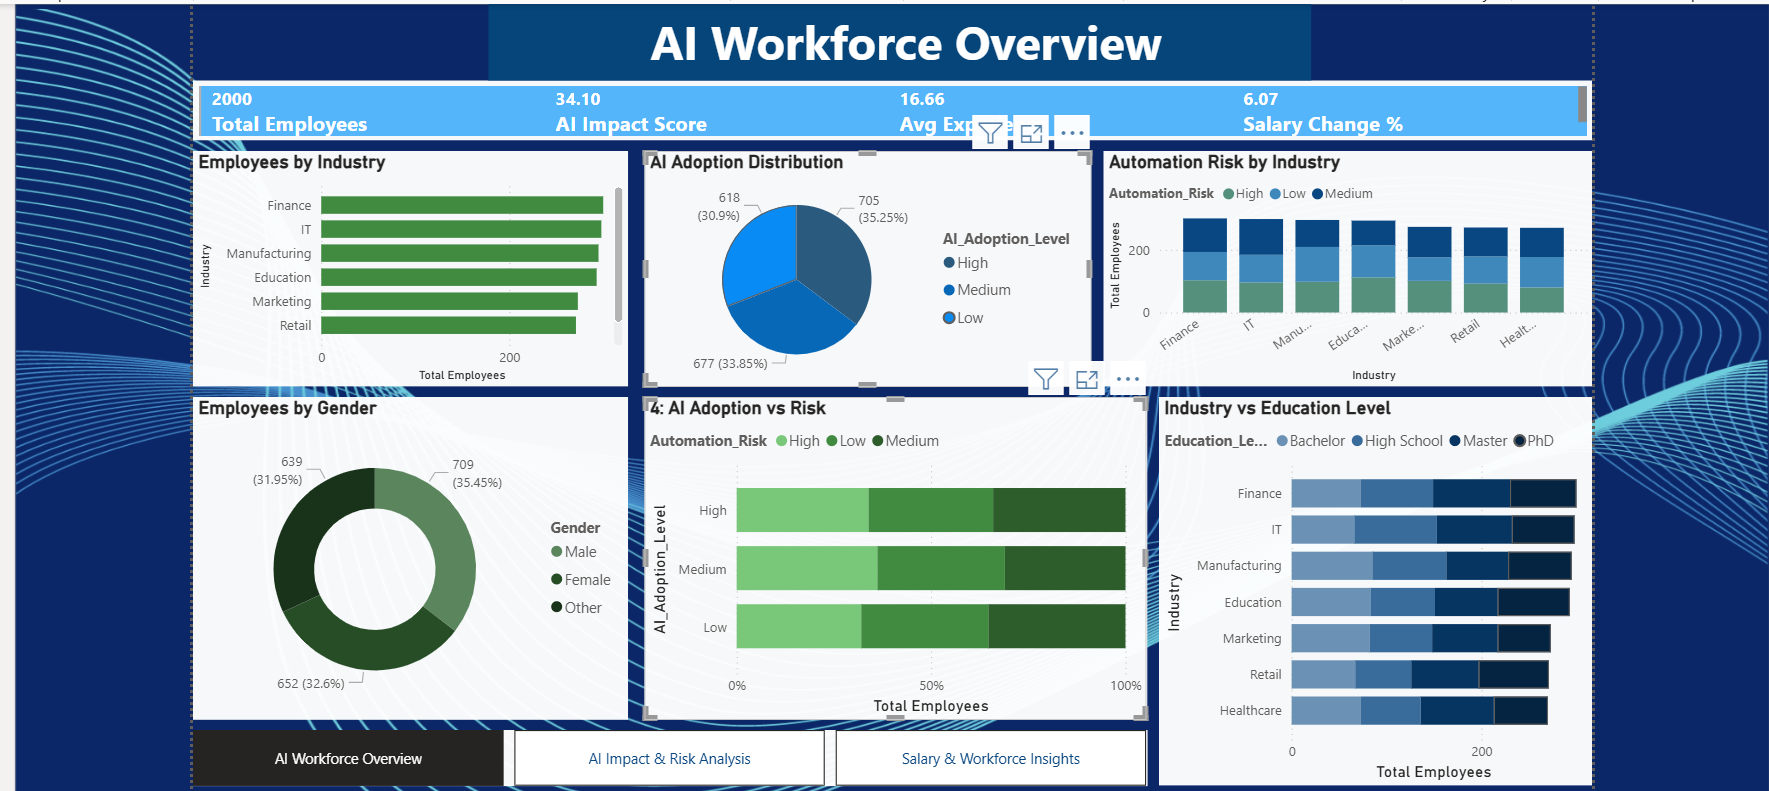

What the dashboard file says about the page in this screenshot:
{"tool":"powerbi","page":{"name":"AI Workforce Overview","canvas":[1280,720],"ordinal":0},"visuals":[{"type":"multiRowCard","fields":{"Values":["ai_job_impact fact.Total Employees","ai_job_impact fact.AI Impact Score","ai_job_impact fact.Avg Experience","ai_job_impact fact.Salary Change %"]},"box":[0,70,1280.4,54.9],"z":0},{"type":"barChart","title":"Employees by Industry","fields":{"Category":["Dim_industry&role.Industry"],"Y":["ai_job_impact fact.Total Employees"]},"box":[0,134.5,398,215.5],"z":1000},{"type":"pieChart","title":"AI Adoption Distribution","fields":{"Category":["Dim_jobs impact by ai.AI_Adoption_Level"],"Y":["ai_job_impact fact.Total Employees"]},"box":[413.1,134.5,409,215.5],"z":2000},{"type":"columnChart","title":"Automation Risk by Industry","fields":{"Category":["Dim_industry&role.Industry"],"Series":["Dim_jobs impact by ai.Automation_Risk"],"Y":["ai_job_impact fact.Total Employees"]},"box":[833,134.5,447.4,215.5],"z":3000},{"type":"hundredPercentStackedBarChart","title":"4: AI Adoption vs Risk","fields":{"Category":["Dim_jobs impact by ai.AI_Adoption_Level"],"Series":["Dim_jobs impact by ai.Automation_Risk"],"Y":["ai_job_impact fact.Total Employees"]},"box":[413.1,359.5,459.7,295.1],"z":4000},{"type":"donutChart","title":"Employees by Gender","fields":{"Category":["Dim_age&gender.Gender"],"Y":["ai_job_impact fact.Total Employees"]},"box":[0,359.5,398,295.1],"z":5000},{"type":"barChart","title":"Industry vs Education Level","fields":{"Category":["Dim_industry&role.Industry"],"Series":["ai_job_impact fact.Education_Level"],"Y":["ai_job_impact fact.Total Employees"]},"box":[883.8,359.5,396.6,355.4],"z":6000},{"type":"textbox","box":[269.9,0,752.5,70.3],"z":7000},{"type":"pageNavigator","box":[0,664.8,873.3,51],"z":8000}]}

Visuals, with their boxes in screenshot pixels (x1, y1, x2, y2):
multiRowCard - ai_job_impact fact.Total Employees x ai_job_impact fact.AI Impact Score: region(189, 76, 1578, 136)
"Employees by Industry" barChart: region(189, 146, 621, 380)
"AI Adoption Distribution" pieChart: region(637, 146, 1081, 380)
"Automation Risk by Industry" columnChart: region(1093, 146, 1578, 380)
"4: AI Adoption vs Risk" hundredPercentStackedBarChart: region(637, 390, 1136, 710)
"Employees by Gender" donutChart: region(189, 390, 621, 710)
"Industry vs Education Level" barChart: region(1148, 390, 1578, 776)
textbox: region(482, 0, 1298, 76)
pageNavigator: region(189, 722, 1137, 777)
